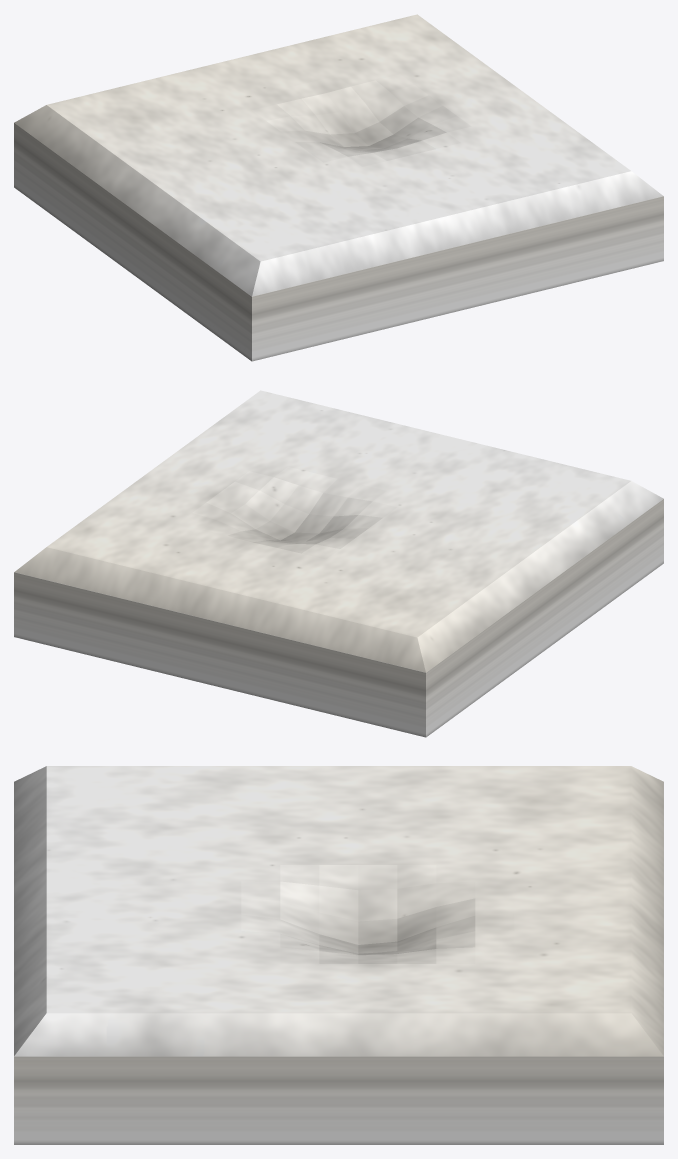
Rendered from tile_dirt_d1.glb.
3 views of the same model, one above another, from view 1: azimuth 30°, elevation 25°; view 2: azimuth 150°, elevation 25°; view 3: azimuth 270°, elevation 25° (orthographic). The views are drawn at different scales.
Visible parts, largest first — view 1: tile_dirt_d1; view 2: tile_dirt_d1; view 3: tile_dirt_d1.
Part boxes in pixels (x1=…): tile_dirt_d1: x1=14, y1=14, x2=663, y2=361; tile_dirt_d1: x1=14, y1=390, x2=663, y2=737; tile_dirt_d1: x1=14, y1=766, x2=663, y2=1144.
Size of the model in its own units: 1 by 0.2 by 1.
Materials: 1 (1 with a texture image).
